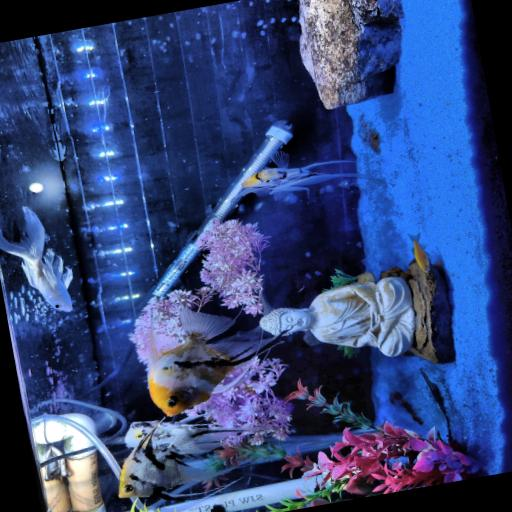Fish: (148, 309, 285, 416), (119, 422, 231, 498), (0, 207, 72, 311), (239, 151, 381, 199), (125, 413, 254, 449), (411, 236, 430, 272)
